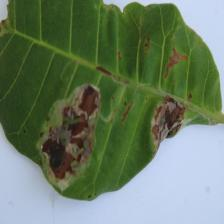leaf miner: (0, 0, 224, 201), (38, 83, 101, 182)
